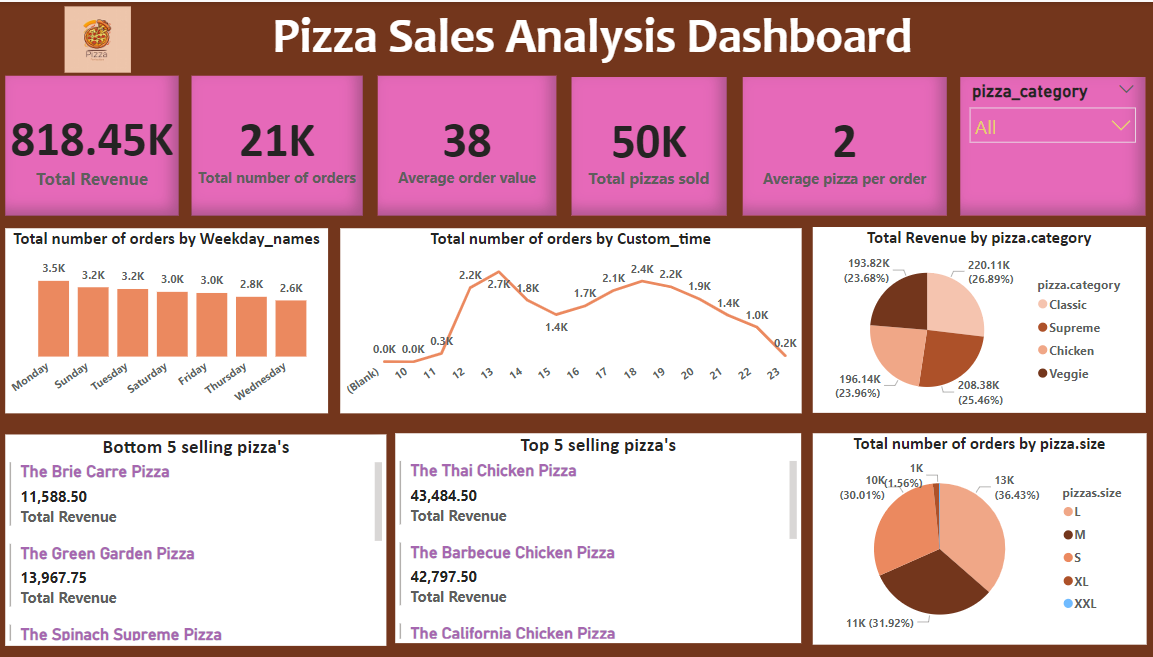

Layout of this report page (visuals, bound fields, positions):
{"tool":"powerbi","page":{"name":"Page 1","canvas":[1280,720],"ordinal":0},"visuals":[{"type":"card","fields":{"Values":["Findings.Total number of orders"]},"box":[222.3,81,188,153.7],"z":0},{"type":"card","fields":{"Values":["Findings.Total Revenue"]},"box":[17.8,81,190.7,153.7],"z":1000},{"type":"card","fields":{"Values":["Findings.Average order value"]},"box":[426.8,81,196.2,153.7],"z":2000},{"type":"card","fields":{"Values":["Findings.Total pizzas sold"]},"box":[639.5,82.3,170.2,152.3],"z":3000},{"type":"card","fields":{"Values":["Findings.Average pizza per order"]},"box":[827.4,82.3,223.7,152.3],"z":4000},{"type":"textbox","box":[208.6,0,907,82.3],"z":5000},{"type":"image","box":[30.2,0,178.4,82.3],"z":6000},{"type":"slicer","title":"category","fields":{"Values":["pizza data.pizza_types.category"]},"box":[1066.2,82.3,203.1,152.3],"z":7000},{"type":"columnChart","title":"Total number of orders by Weekday_names","fields":{"Category":["pizza data.name of day"],"Y":["Findings.Total number of orders"]},"box":[17.8,248.4,354,203.1],"z":8000},{"type":"lineChart","fields":{"Category":["pizza data.Custom_time"],"Y":["Findings.Total number of orders"]},"box":[385.6,248.4,506.3,203.1],"z":9000},{"type":"pieChart","title":"Total Revenue by pizza.category","fields":{"Category":["pizza data.pizza_types.category"],"Y":["Findings.Total Revenue"]},"box":[903.6,247.3,365.6,203.9],"z":10000},{"type":"multiRowCard","title":"Bottom 5 selling pizza''s","fields":{"Values":["pizza data.pizza_types.name","Findings.Total Revenue"]},"box":[18.1,474.1,418.6,231.6],"z":11000},{"type":"multiRowCard","title":"Top 5 selling pizza''s","fields":{"Values":["pizza data.pizza_types.name","Findings.Total Revenue"]},"box":[446,473.4,446,230.5],"z":12000},{"type":"pieChart","title":"Total number of orders by pizza.size","fields":{"Category":["pizza data.pizzas.size"],"Y":["Findings.Total number of orders"]},"box":[904,474,366,232],"z":13000}]}

Visuals, with their boxes in screenshot pixels (x1, y1, x2, y2), scaled from the page's 1280x720 canvas onto the 1153x657 screenshot:
card - Findings.Total number of orders: Rect(200, 74, 370, 214)
card - Findings.Total Revenue: Rect(16, 74, 188, 214)
card - Findings.Average order value: Rect(384, 74, 561, 214)
card - Findings.Total pizzas sold: Rect(576, 75, 729, 214)
card - Findings.Average pizza per order: Rect(745, 75, 947, 214)
textbox: Rect(188, 0, 1005, 75)
image: Rect(27, 0, 188, 75)
"category" slicer: Rect(960, 75, 1143, 214)
"Total number of orders by Weekday_names" columnChart: Rect(16, 227, 335, 412)
lineChart - pizza data.Custom_time x Findings.Total number of orders: Rect(347, 227, 803, 412)
"Total Revenue by pizza.category" pieChart: Rect(814, 226, 1143, 412)
"Bottom 5 selling pizza''s" multiRowCard: Rect(16, 433, 393, 644)
"Top 5 selling pizza''s" multiRowCard: Rect(402, 432, 803, 642)
"Total number of orders by pizza.size" pieChart: Rect(814, 433, 1144, 644)
